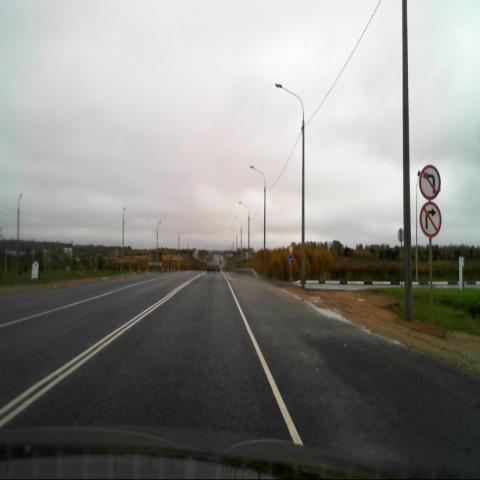3_18: (420, 204, 441, 237)
3_18_2: (419, 163, 441, 202)
